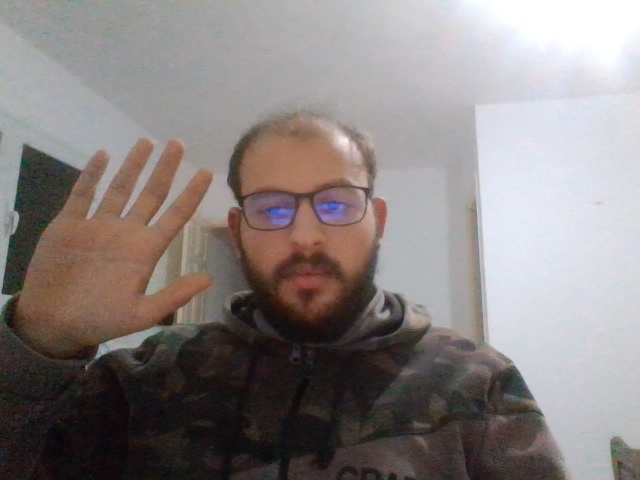Hello: (39, 138, 207, 346)
